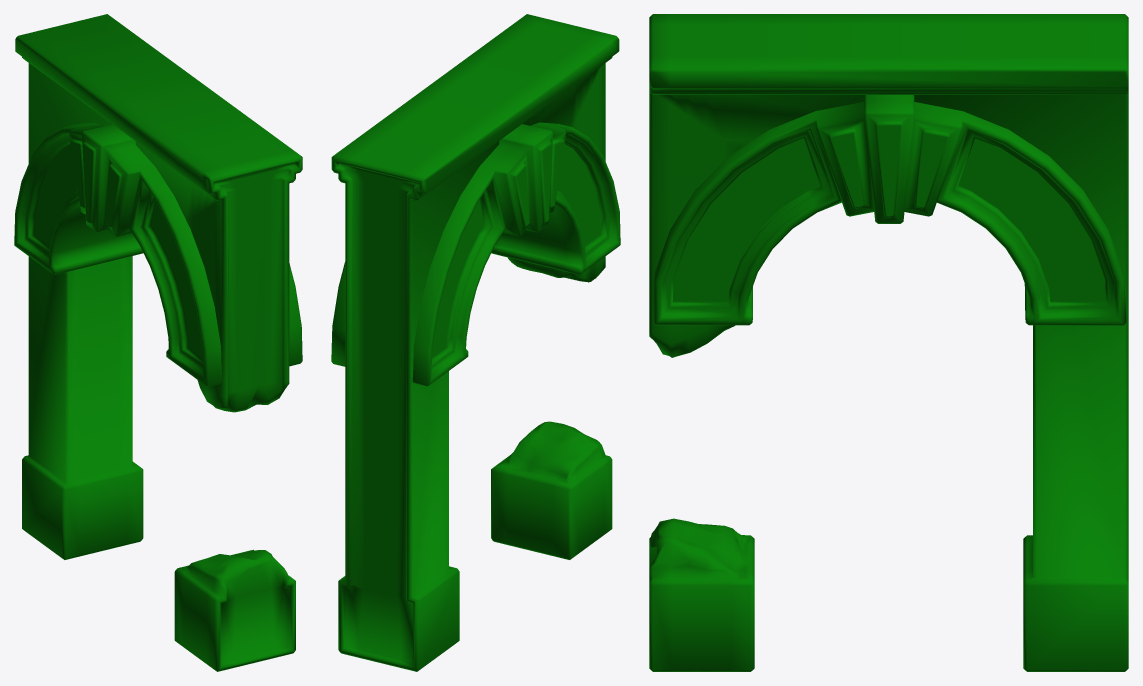
Rendered from W1_Arche_3_Cassee.fbx.
3 views of the same model, side by side, from view 1: azimuth 30°, elevation 25°; view 2: azimuth 150°, elevation 25°; view 3: azimuth 270°, elevation 25° (orthographic). The views are drawn at different scales.
Parts seen in each view (by area): view 1: W1_Arche_3_Cassee; view 2: W1_Arche_3_Cassee; view 3: W1_Arche_3_Cassee.
Boxes of the visible parts, box(x1,y1,x2,y2) form: W1_Arche_3_Cassee: box(14, 14, 302, 671); W1_Arche_3_Cassee: box(331, 14, 620, 671); W1_Arche_3_Cassee: box(649, 14, 1128, 671).
Bounding box in the file's own units: 210 × 700 × 500.
